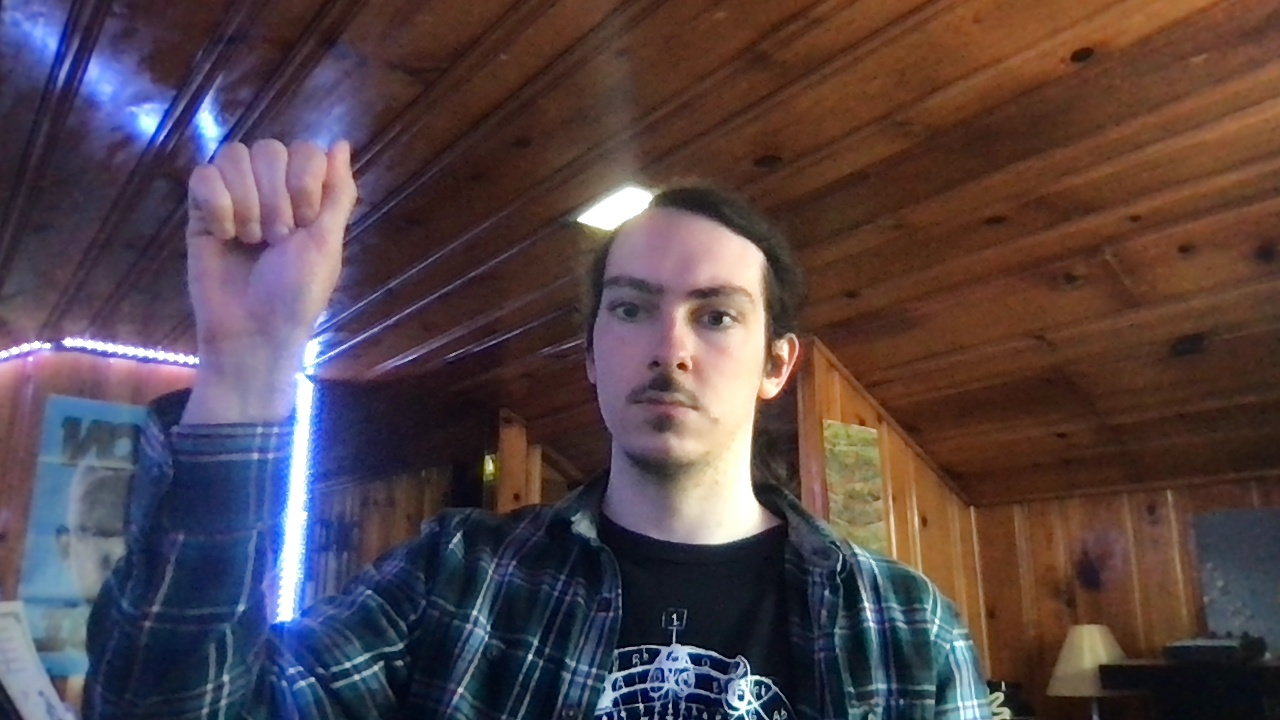a: (178, 132, 361, 336)
